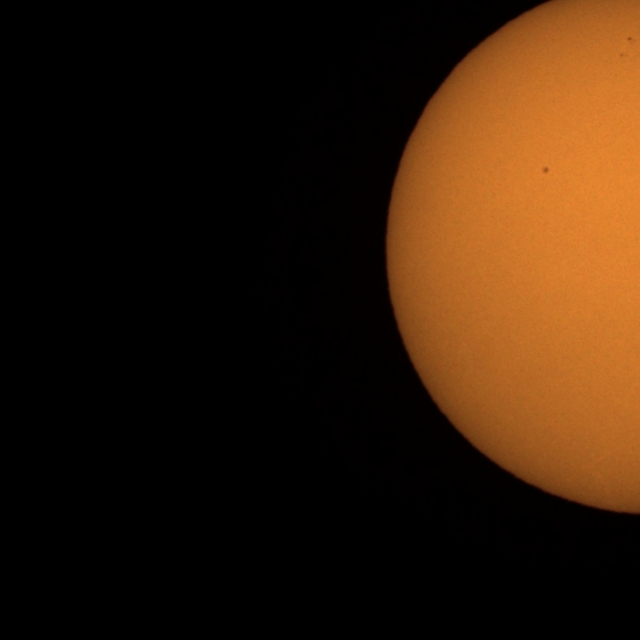sunspot: (620, 36, 638, 53), (542, 165, 550, 175), (626, 36, 636, 43), (619, 52, 627, 58)
